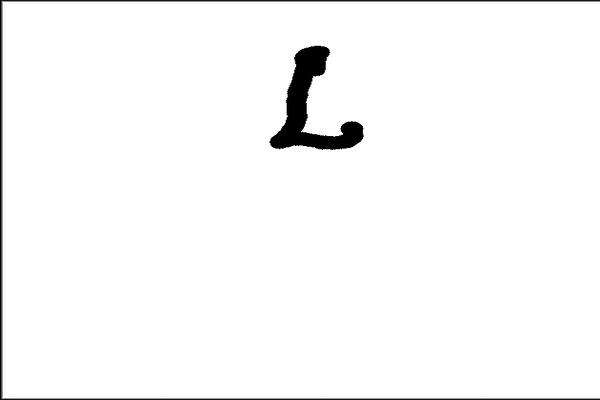L: (260, 40, 373, 158)
